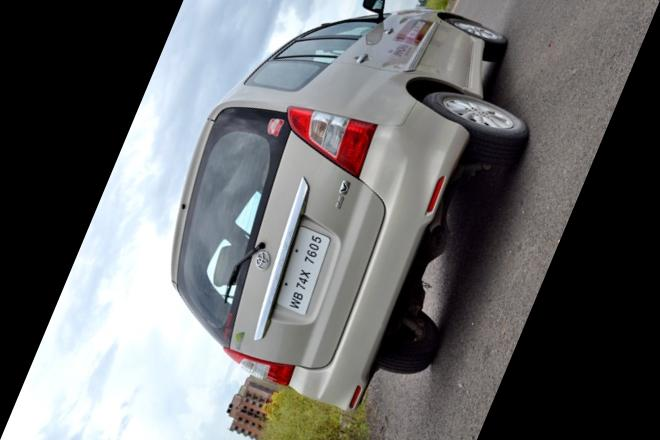plate: (261, 210, 355, 323)
